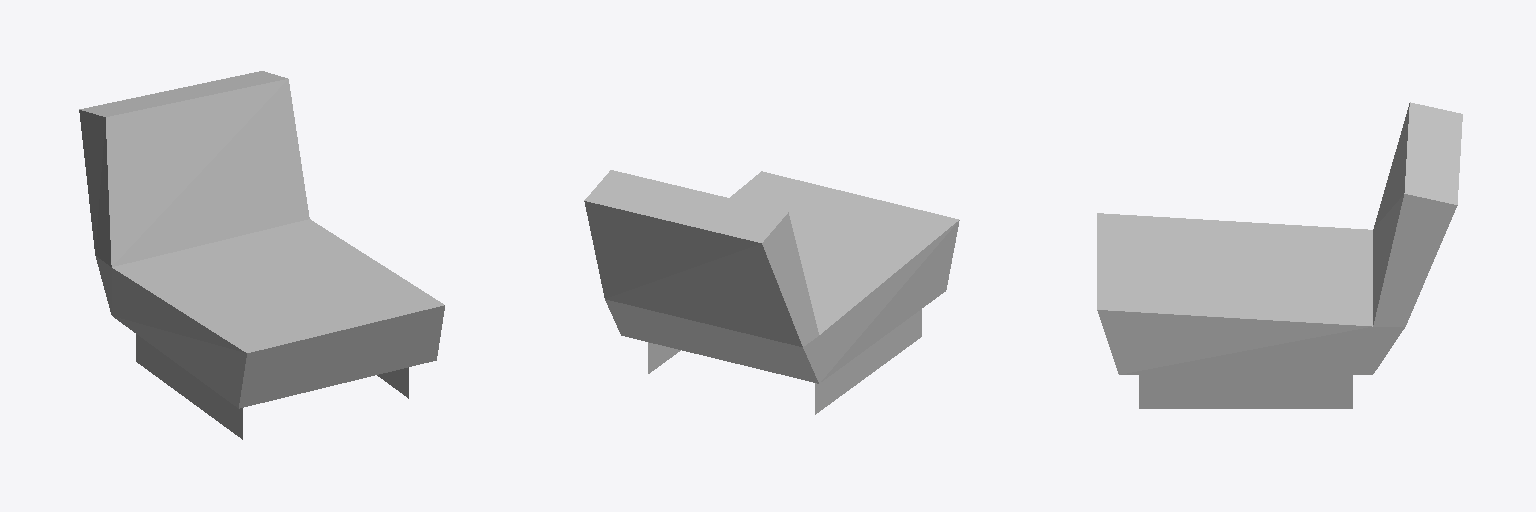
The model's file is seat.obj.
The picture shows the model from 3 angles: view 1: azimuth 30°, elevation 25°; view 2: azimuth 150°, elevation 25°; view 3: azimuth 270°, elevation 25°; orthographic projection.
Parts seen in each view (by area): view 1: Cube_Cube.001; view 2: Cube_Cube.001; view 3: Cube_Cube.001.
Boxes of the visible parts, x1=… form: Cube_Cube.001: x1=79, y1=71, x2=444, y2=439; Cube_Cube.001: x1=584, y1=170, x2=959, y2=414; Cube_Cube.001: x1=1097, y1=102, x2=1462, y2=408.
Bounding box in the file's own units: 0.5092 × 0.5431 × 0.804.